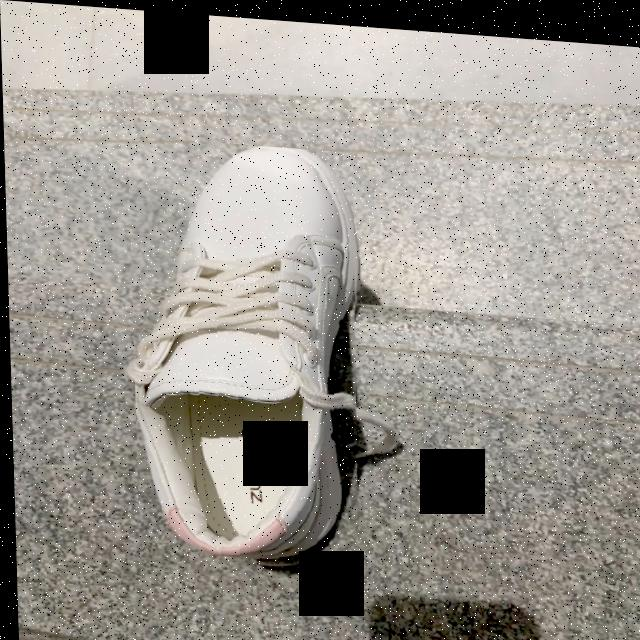shoe: (133, 140, 353, 562)
